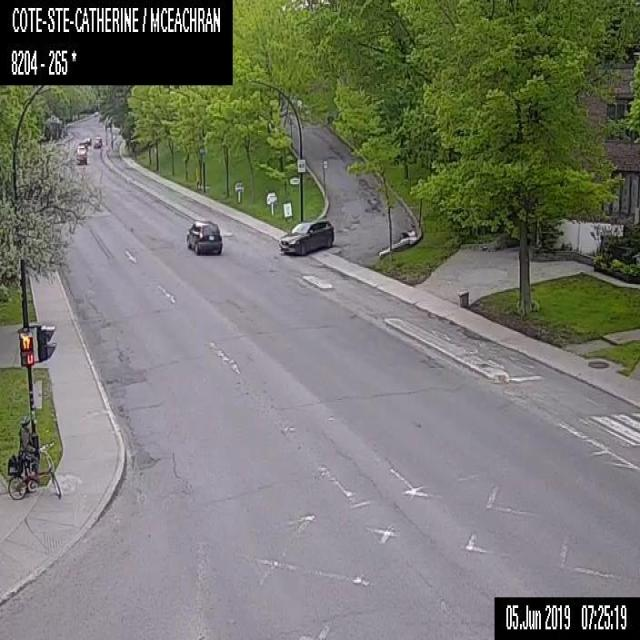cyclist: (6, 418, 62, 498)
vehicle: (278, 218, 334, 255), (186, 219, 221, 254), (76, 152, 86, 164), (76, 144, 85, 154), (93, 139, 101, 148), (79, 140, 87, 149), (84, 136, 91, 145), (95, 136, 102, 144)
